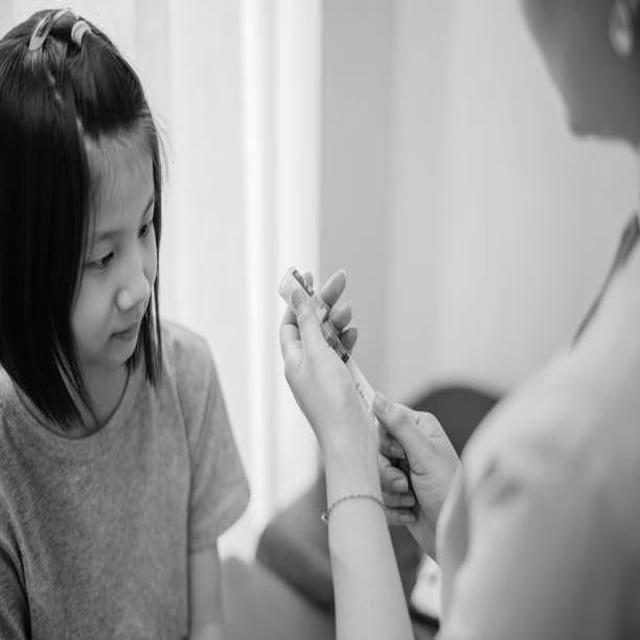Fear: (82, 140, 157, 367)
